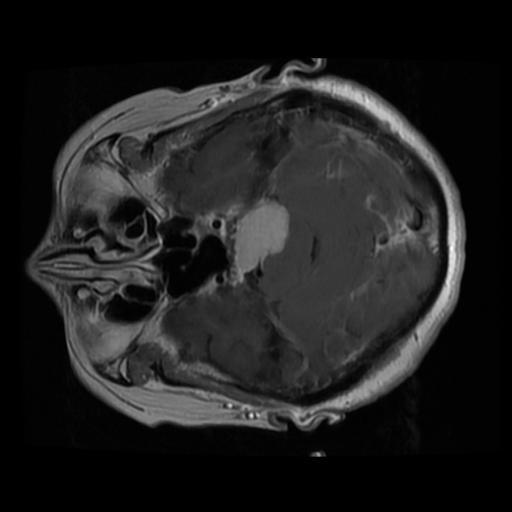meningioma: (232, 199, 289, 279)
